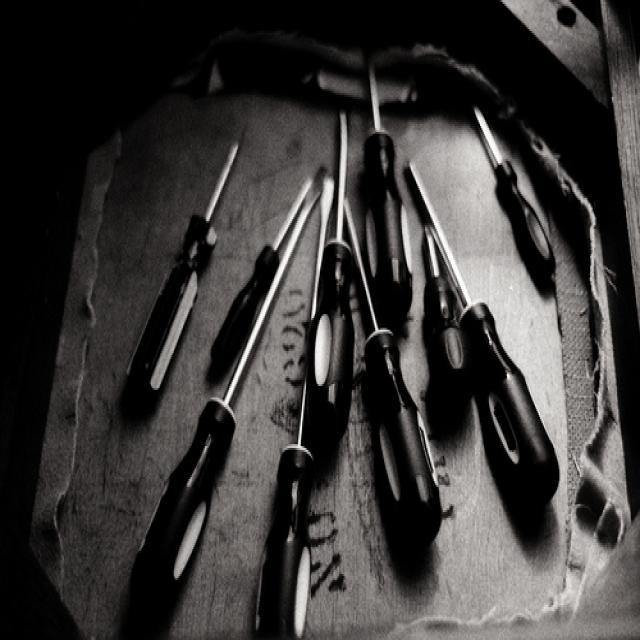screwdriver: (130, 168, 330, 634), (413, 140, 566, 521), (111, 112, 256, 439), (260, 178, 341, 640), (337, 182, 435, 562), (202, 168, 318, 404), (469, 92, 581, 314), (354, 51, 422, 327), (311, 97, 354, 457), (413, 217, 472, 442)
